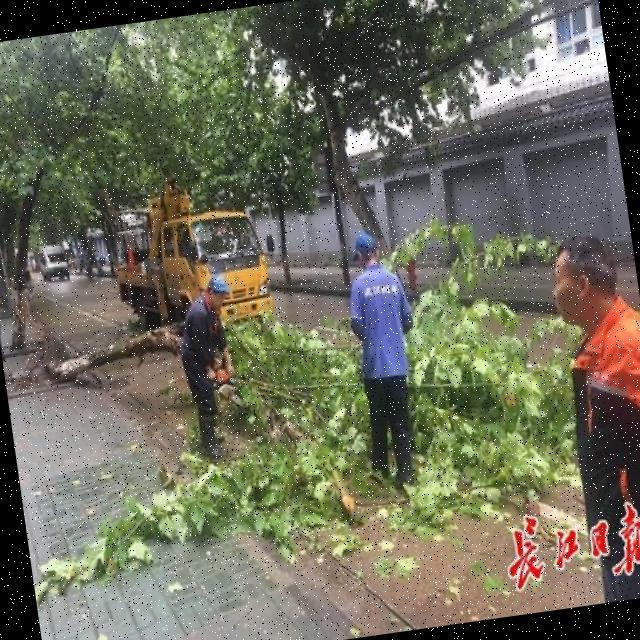fallen_object: (30, 206, 580, 554)
